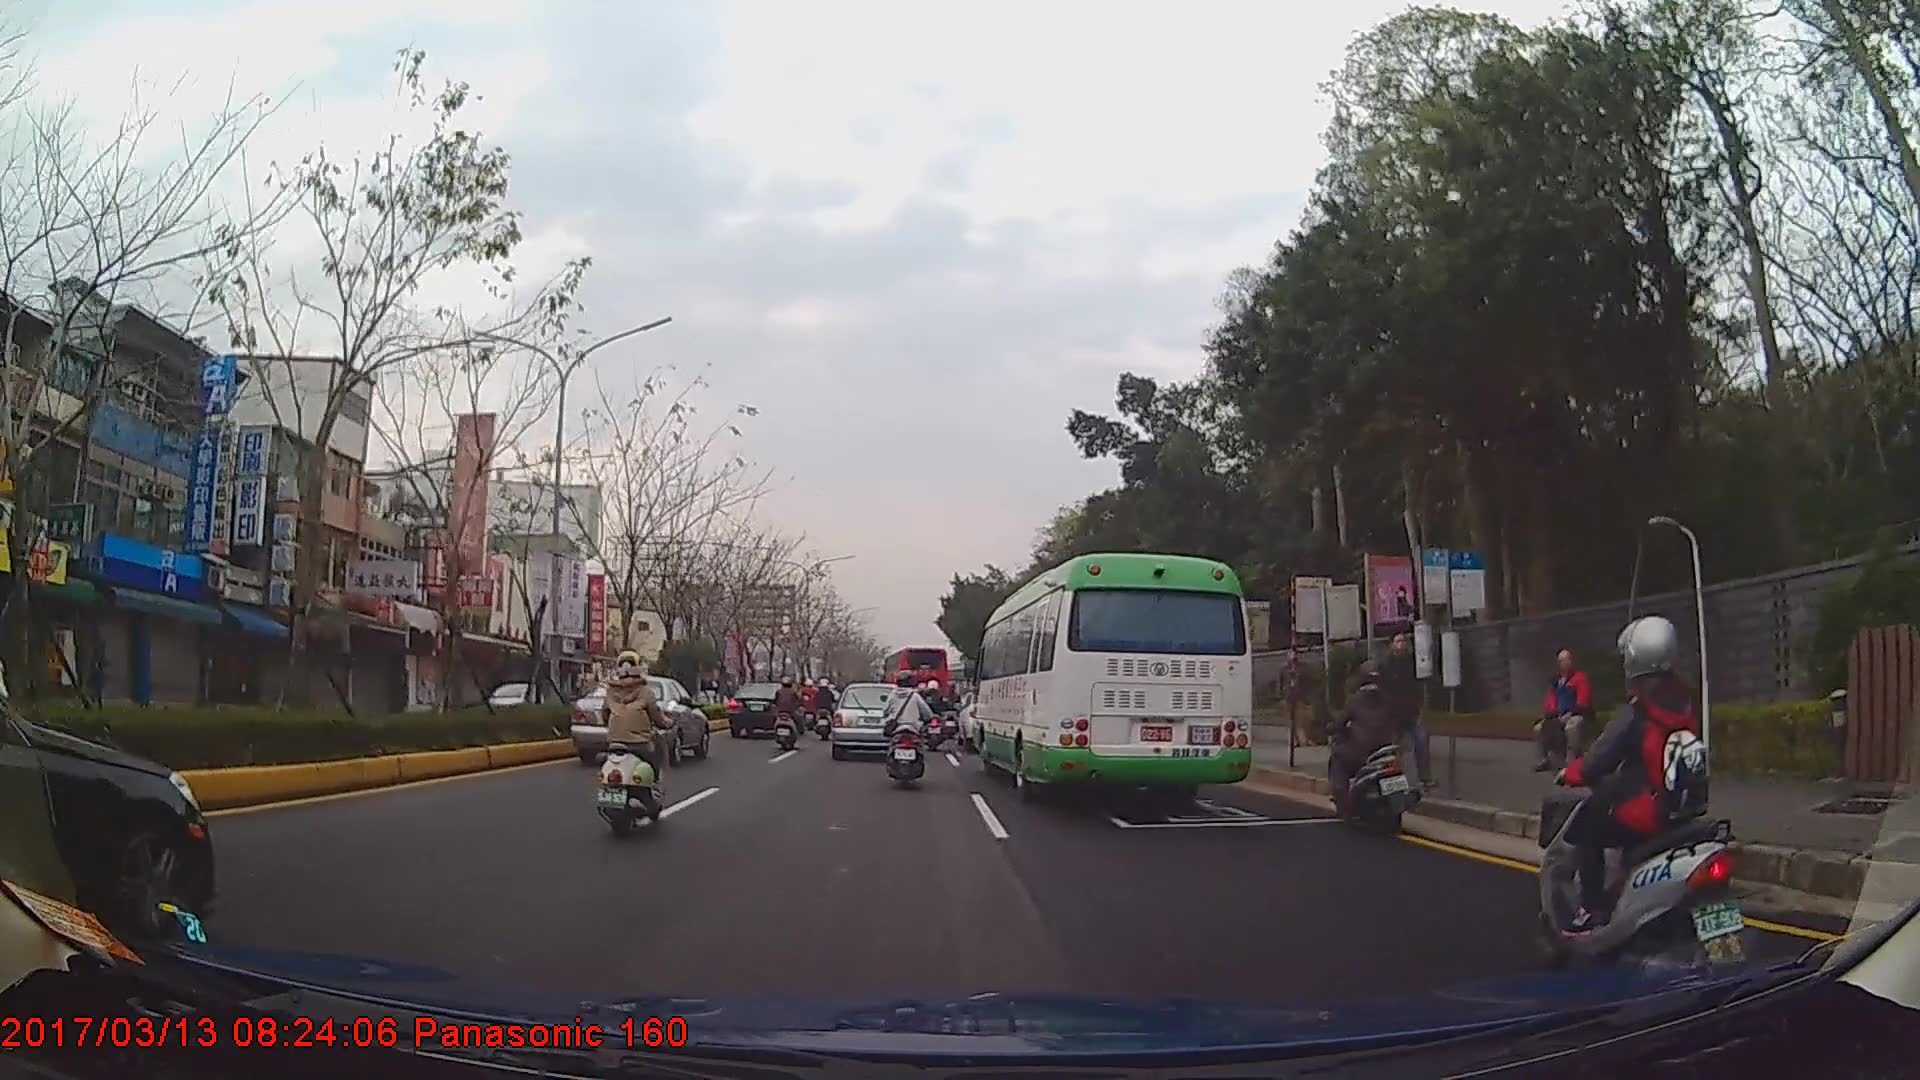pedestrian: (1373, 639, 1430, 795), (1537, 651, 1592, 778), (1272, 648, 1312, 756)
rider: (1541, 617, 1743, 964), (1319, 661, 1416, 845), (598, 652, 676, 843), (883, 676, 933, 793), (776, 679, 808, 755), (923, 681, 949, 738), (815, 679, 838, 743), (802, 679, 822, 733)
vehicle: (970, 553, 1253, 804), (571, 678, 710, 769), (833, 681, 916, 760), (882, 646, 952, 717), (727, 682, 802, 742)
